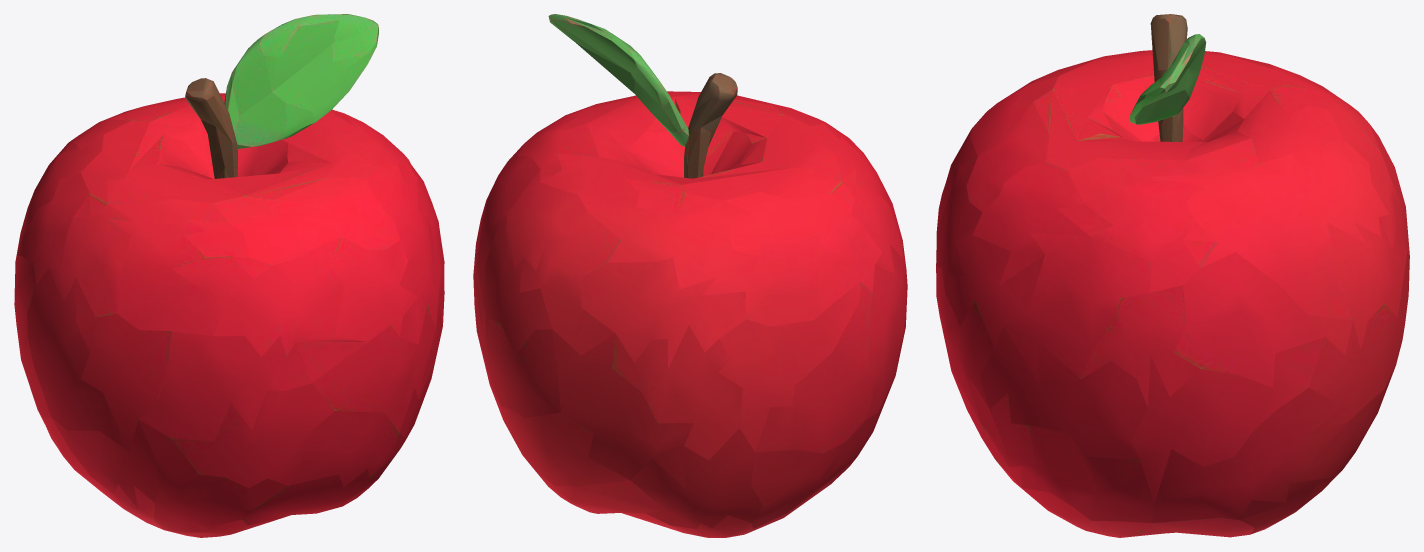
3 renders of one model, left to right at view 1: azimuth 30°, elevation 25°; view 2: azimuth 150°, elevation 25°; view 3: azimuth 270°, elevation 25°, orthographic. The views are drawn at different scales.
Bounding box in the file's own units: 1.67 × 1.9 × 1.62.
1 material, 1 textured.
